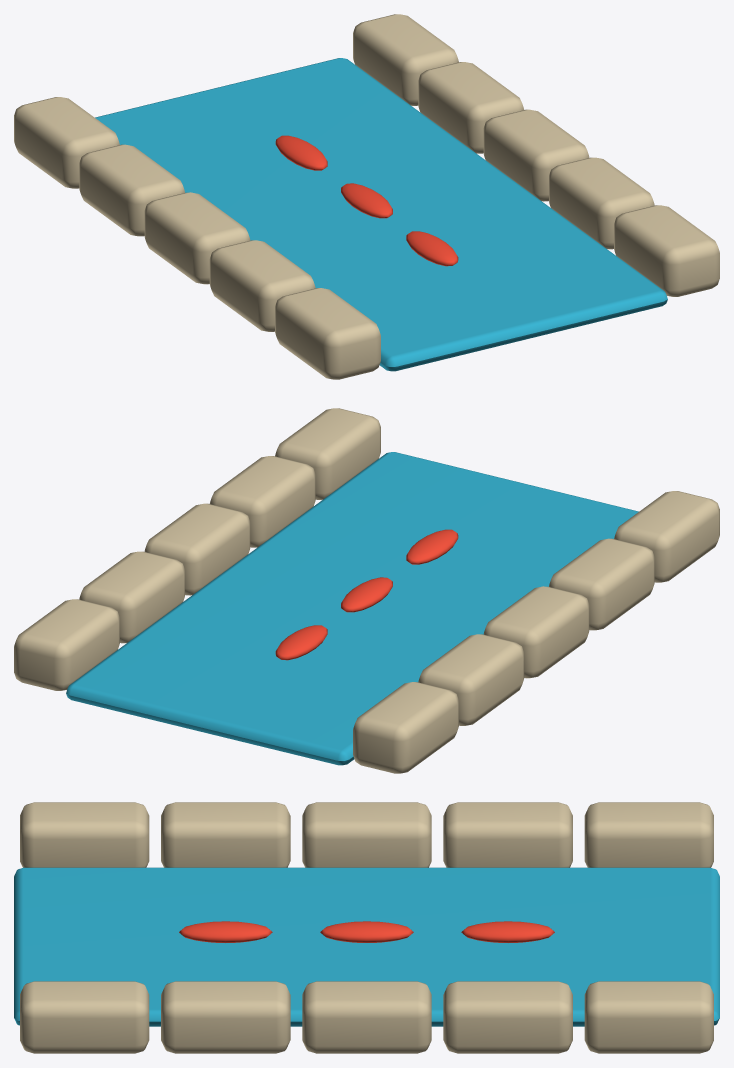
File: JPN-20.glb
3 views of the same model, one above another, from view 1: azimuth 30°, elevation 25°; view 2: azimuth 150°, elevation 25°; view 3: azimuth 270°, elevation 25° (orthographic). The views are drawn at different scales.
Visible parts, largest first — view 1: water, water bank, water bank.005, water bank.002, water bank.003, water bank.001, water bank.004, water bank.007, water bank.008, water bank.009, water bank.006, koi.002 (+2 smaller); view 2: water, water bank.004, water bank.009, water bank.002, water bank.001, water bank, water bank.003, water bank.007, water bank.006, water bank.005, water bank.008, koi (+2 smaller); view 3: water, water bank.007, water bank.006, water bank.008, water bank.005, water bank.009, water bank.002, water bank, water bank.001, water bank.003, water bank.004, koi (+2 smaller).
Part boxes in pixels (bbox=[...]): water: bbox=[95, 58, 667, 371]; water bank: bbox=[275, 288, 380, 379]; water bank.005: bbox=[614, 205, 719, 296]; water bank.002: bbox=[144, 192, 250, 284]; water bank.003: bbox=[79, 144, 184, 236]; water bank.001: bbox=[209, 240, 315, 331]; water bank.004: bbox=[14, 97, 119, 188]; water bank.007: bbox=[483, 109, 589, 201]; water bank.008: bbox=[418, 62, 524, 153]; water bank.009: bbox=[353, 14, 458, 105]; water bank.006: bbox=[549, 157, 654, 249]; koi.002: bbox=[275, 135, 327, 170]; water: bbox=[66, 452, 638, 765]; water bank.004: bbox=[353, 682, 458, 773]; water bank.009: bbox=[14, 599, 119, 690]; water bank.002: bbox=[483, 586, 589, 678]; water bank.001: bbox=[549, 538, 654, 630]; water bank: bbox=[614, 491, 719, 582]; water bank.003: bbox=[418, 634, 524, 725]; water bank.007: bbox=[144, 503, 250, 595]; water bank.006: bbox=[209, 456, 315, 547]; water bank.005: bbox=[275, 408, 380, 499]; water bank.008: bbox=[79, 551, 184, 643]; koi: bbox=[406, 529, 458, 564]; water: bbox=[14, 867, 719, 1026]; water bank.007: bbox=[302, 981, 431, 1053]; water bank.006: bbox=[161, 981, 290, 1053]; water bank.008: bbox=[443, 981, 572, 1053]; water bank.005: bbox=[20, 981, 149, 1053]; water bank.009: bbox=[584, 981, 713, 1053]; water bank.002: bbox=[302, 802, 431, 867]; water bank: bbox=[20, 802, 149, 867]; water bank.001: bbox=[161, 802, 290, 867]; water bank.003: bbox=[443, 802, 572, 867]; water bank.004: bbox=[584, 802, 713, 867]; koi: bbox=[179, 921, 272, 942].
Bounding box in the file's own units: 2.1 × 0.255 × 3.
